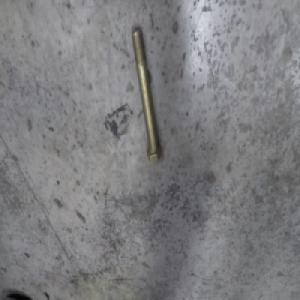Bolt: (130, 34, 164, 170)
